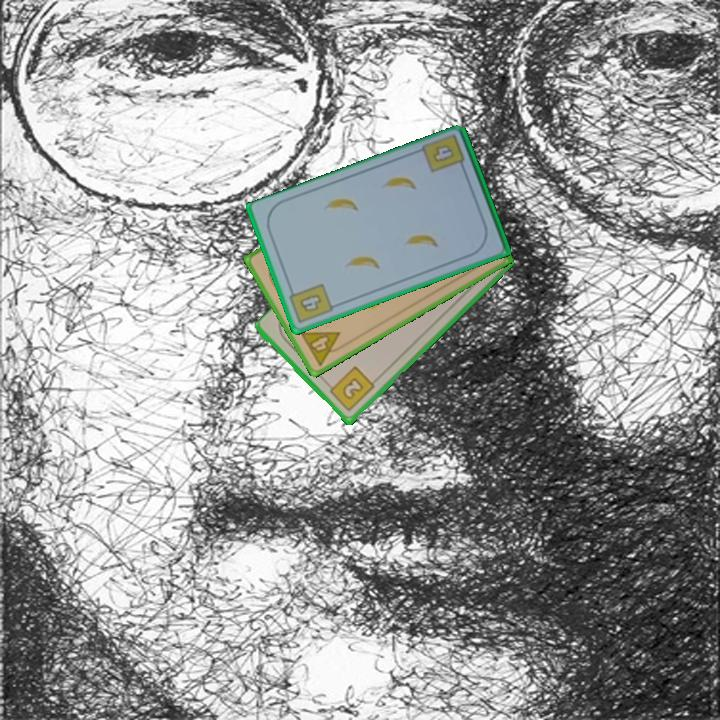2b: (324, 363, 377, 415)
4b: (285, 280, 336, 327), (431, 144, 454, 164)
4p: (297, 328, 349, 369)
